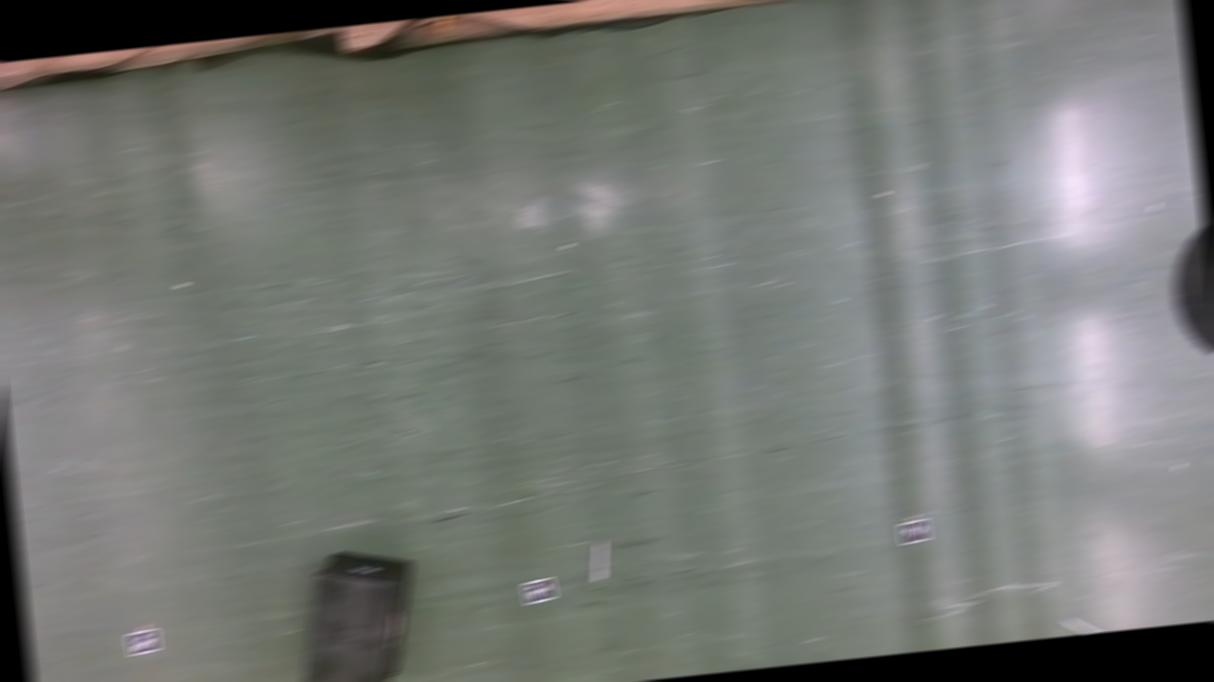probes: (1062, 614, 1102, 635), (590, 539, 610, 579)
rako: (286, 542, 426, 682)
